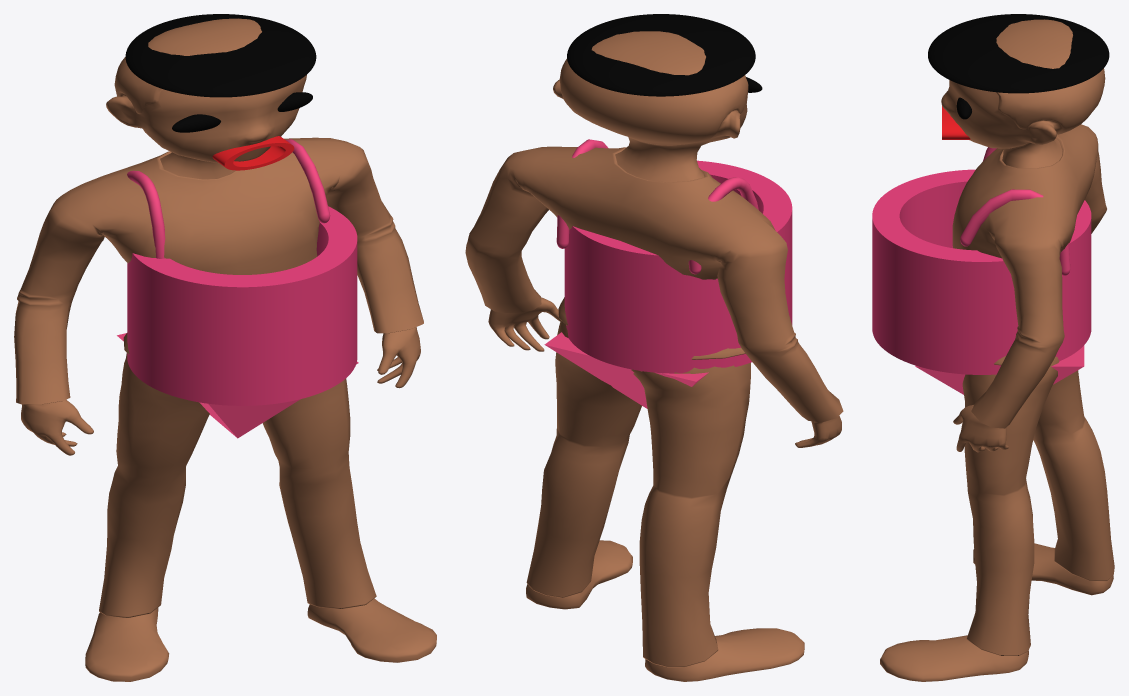
The model's file is Tuboss.fbx.
3 renders of one model, left to right at view 1: azimuth 30°, elevation 25°; view 2: azimuth 150°, elevation 25°; view 3: azimuth 270°, elevation 25°, orthographic. The views are drawn at different scales.
Parts seen in each view (by area): view 1: root (×8); view 2: root (×6); view 3: root (×6).
Boxes of the visible parts, box(x1,y1,x2,y2) form: root (×8): box(14, 14, 436, 681); root (×6): box(465, 14, 843, 681); root (×6): box(872, 14, 1114, 681).
Size of the model in its own units: 0.3519 by 0.5289 by 0.2041.
9 materials, 1 textured.
